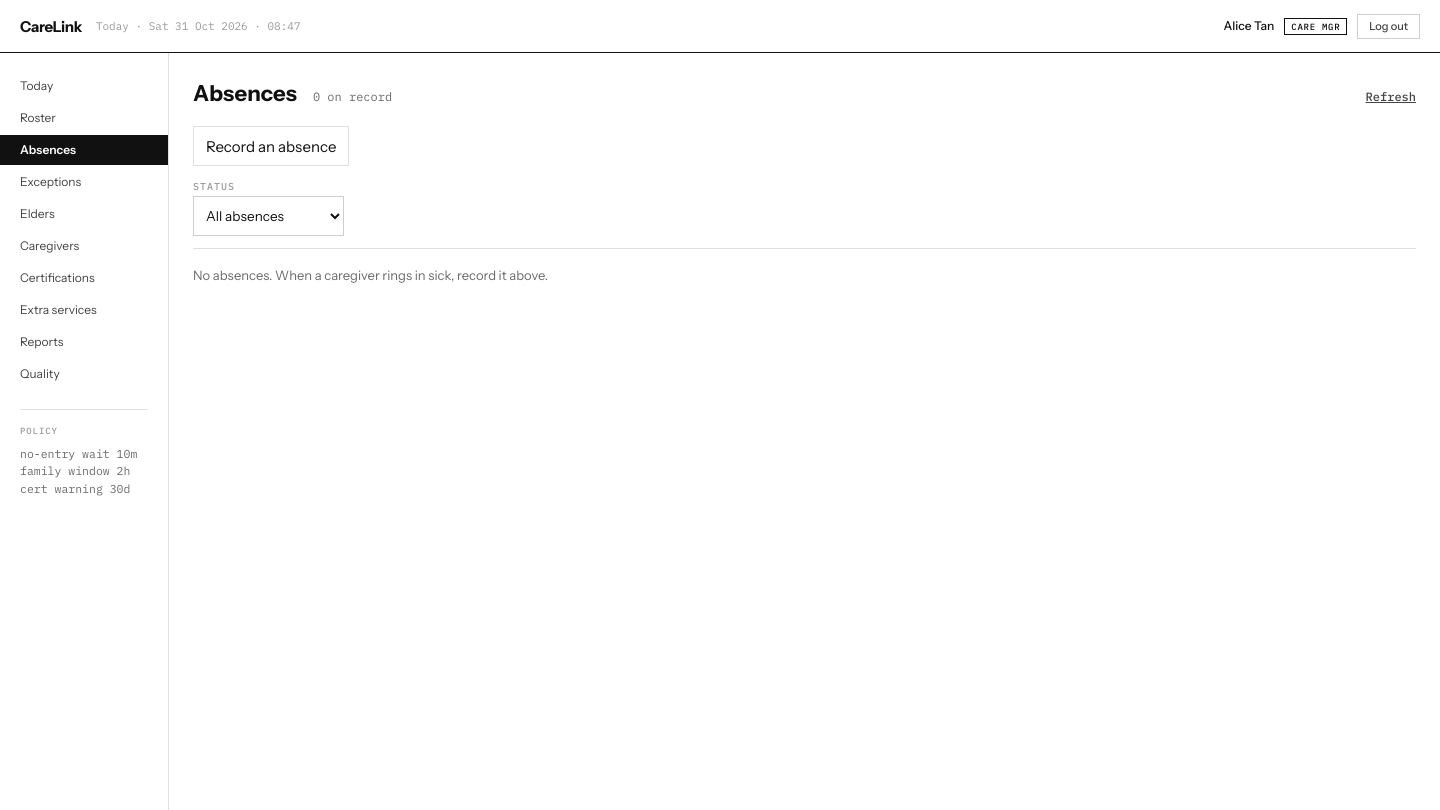
records an absence a caregiver rang in, then opens it
Check: the text "No absences" is shown, box [193, 267, 548, 283]
Click the button "Record an absence". click: (271, 146)
box: [193, 126, 349, 166]
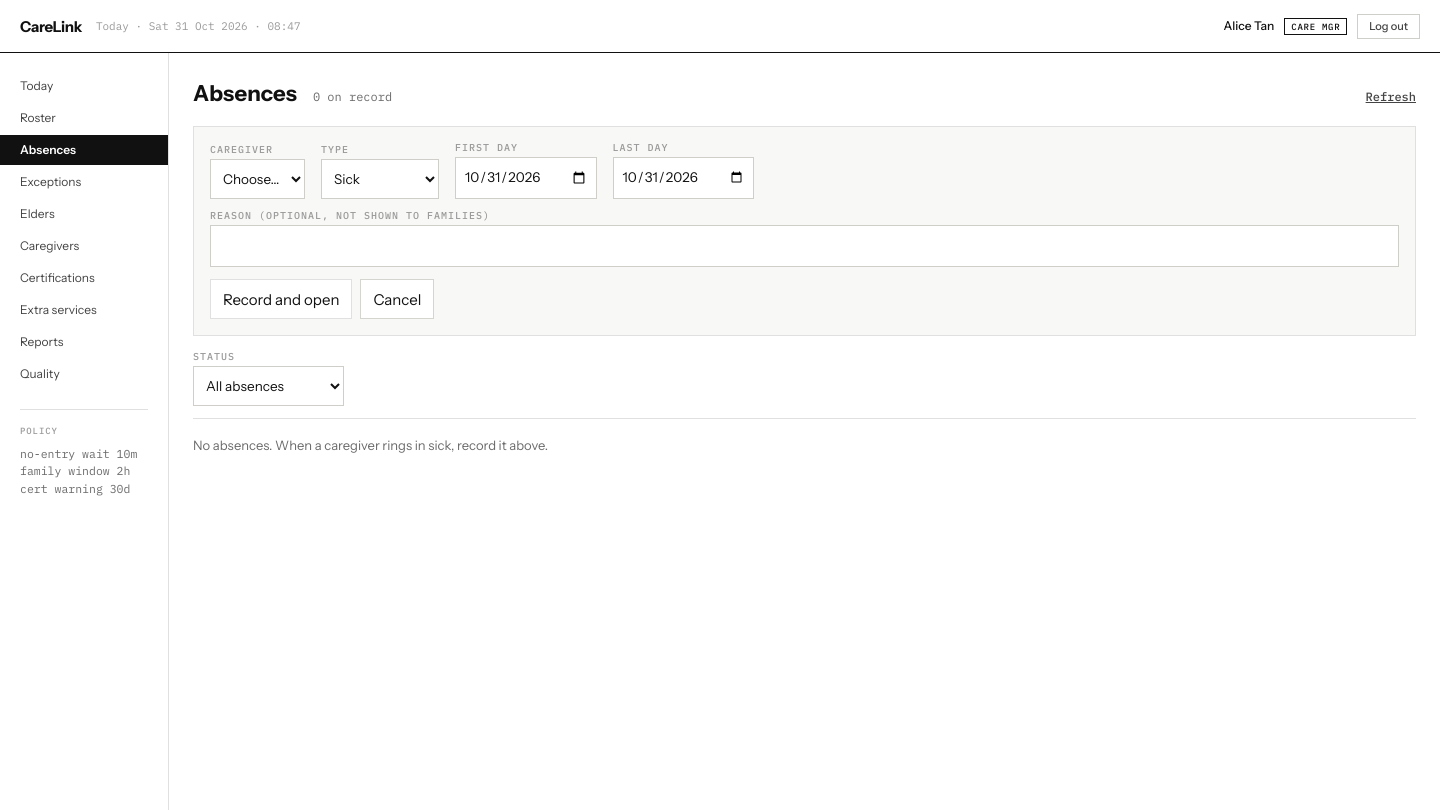
Select "Aisha" in the dropdown labelled "Caregiver". click: (258, 179)
box: [210, 159, 305, 199]
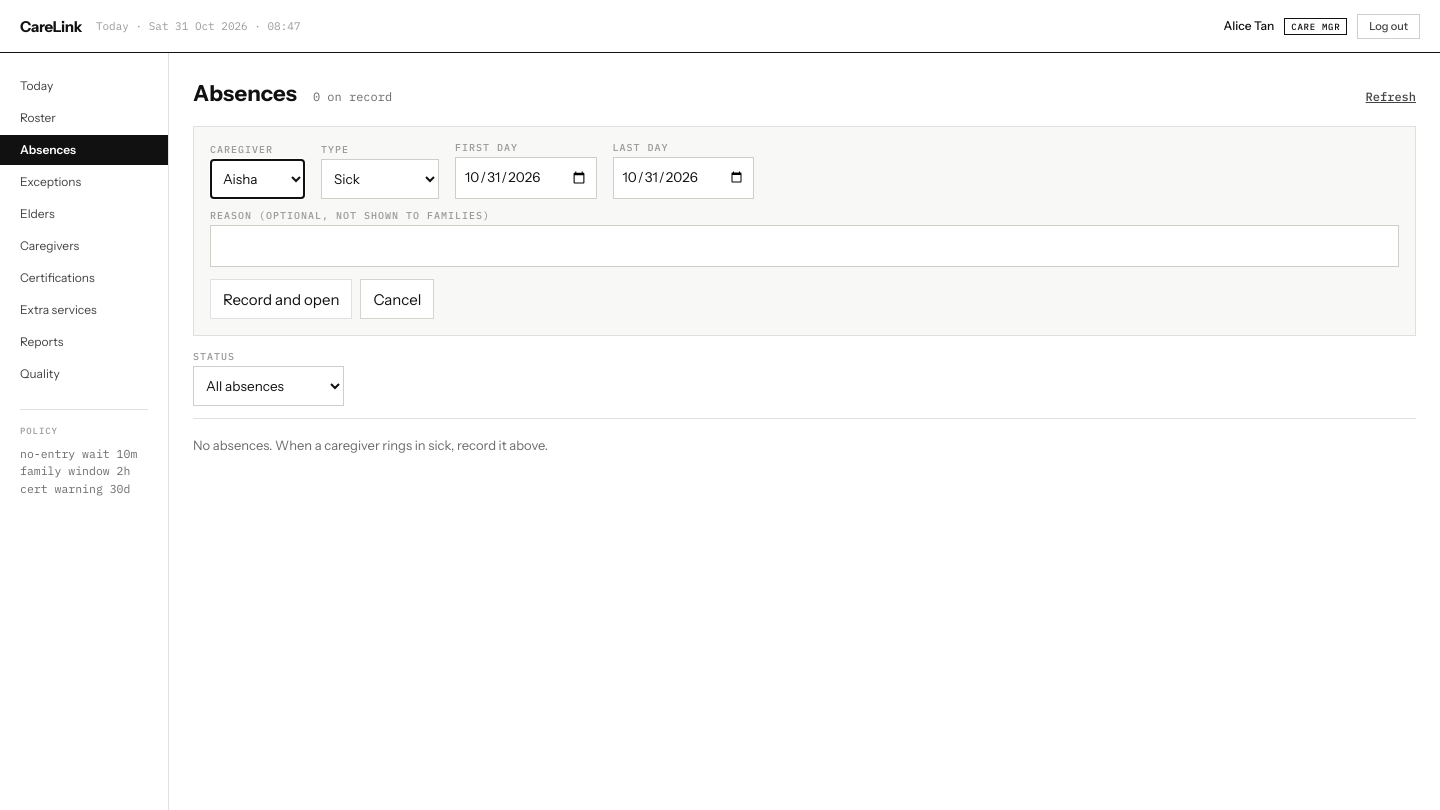
Click the button "Record and open". click: (281, 299)
box: [210, 279, 352, 319]
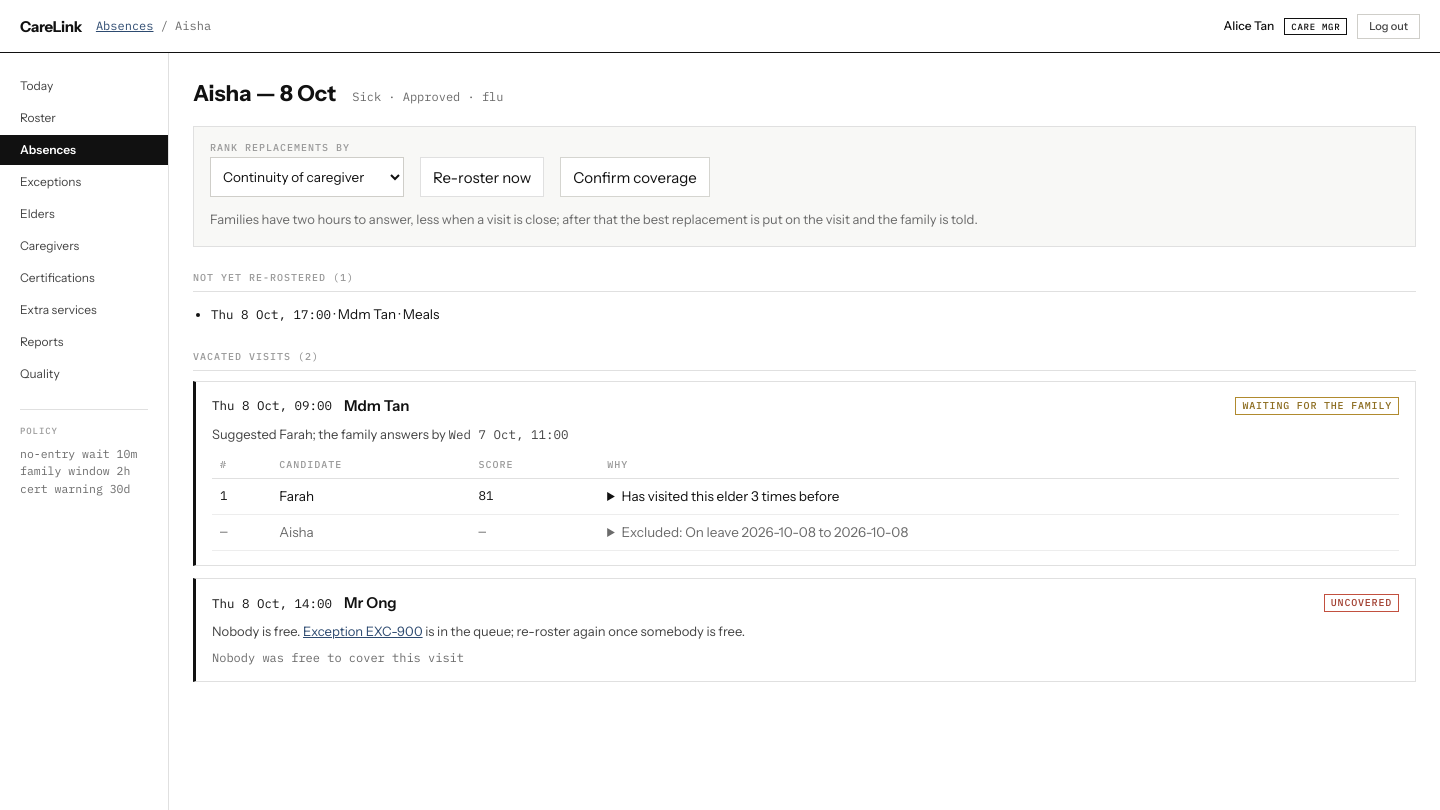
Check: the heading "Aisha — 8 Oct" is shown, box [193, 77, 336, 110]
